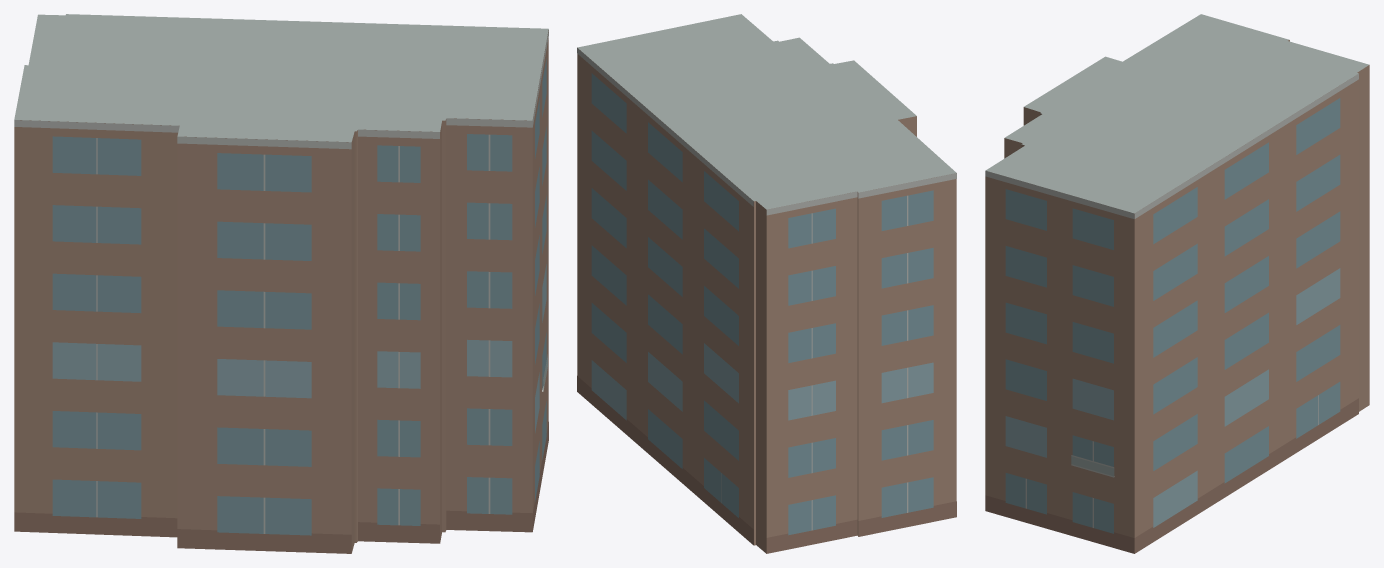
File: survey-upis-32890866.glb
3 renders of one model, left to right at view 1: azimuth 30°, elevation 25°; view 2: azimuth 150°, elevation 25°; view 3: azimuth 270°, elevation 25°, orthographic. The views are drawn at different scales.
Visible parts, largest first — view 1: survey-upis-32890866.tmp; view 2: survey-upis-32890866.tmp; view 3: survey-upis-32890866.tmp.
Boxes of the visible parts, left/top/right/bottom form: survey-upis-32890866.tmp: left=14, top=14, right=548, bottom=553; survey-upis-32890866.tmp: left=577, top=14, right=956, bottom=553; survey-upis-32890866.tmp: left=985, top=14, right=1369, bottom=553.
Bounding box in the file's own units: 17.98 × 14.3 × 14.63.
